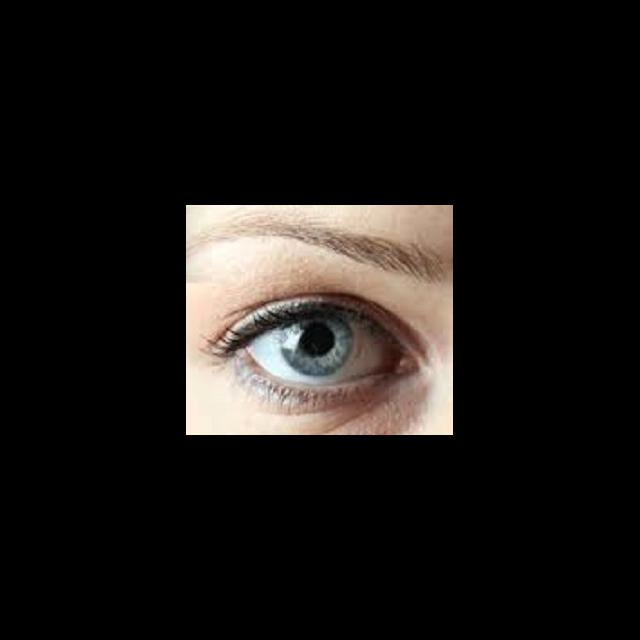eye: (243, 310, 392, 385)
iris: (279, 315, 355, 377)
